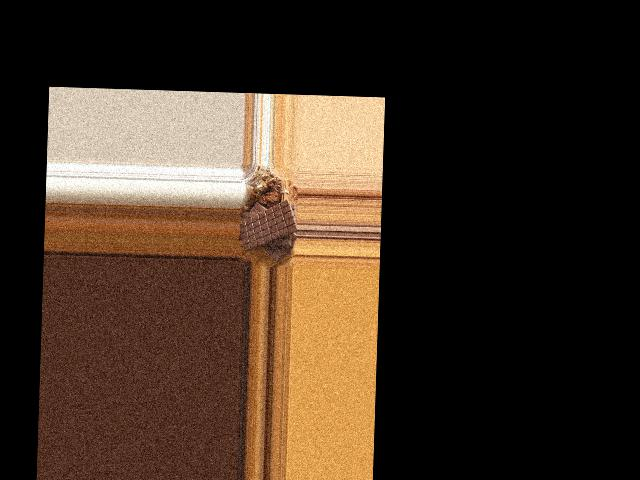chocolate: (240, 194, 298, 253)
